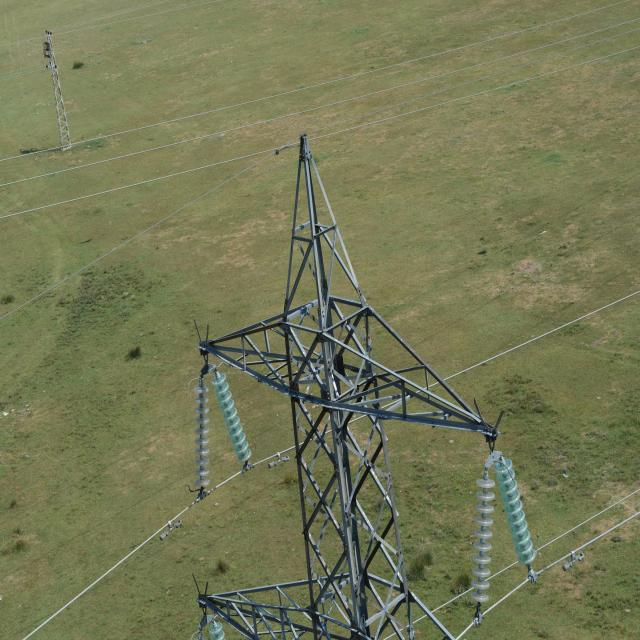direk: (281, 137, 418, 640)
